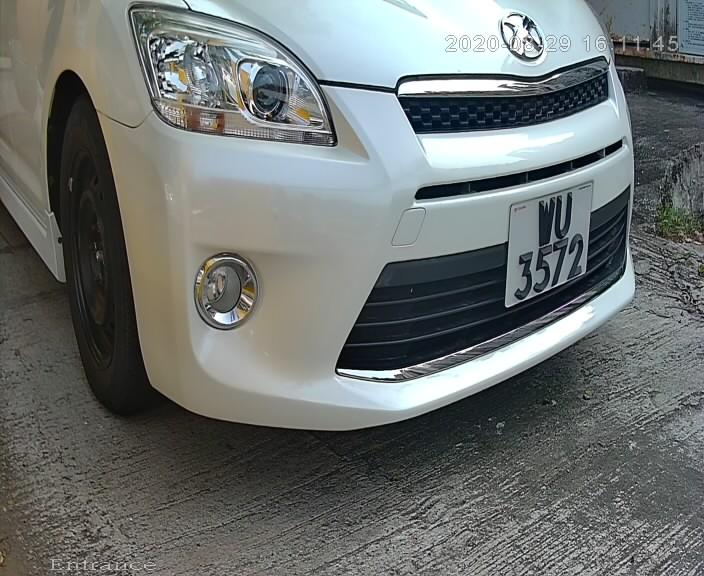License Plate: (476, 165, 611, 329)
